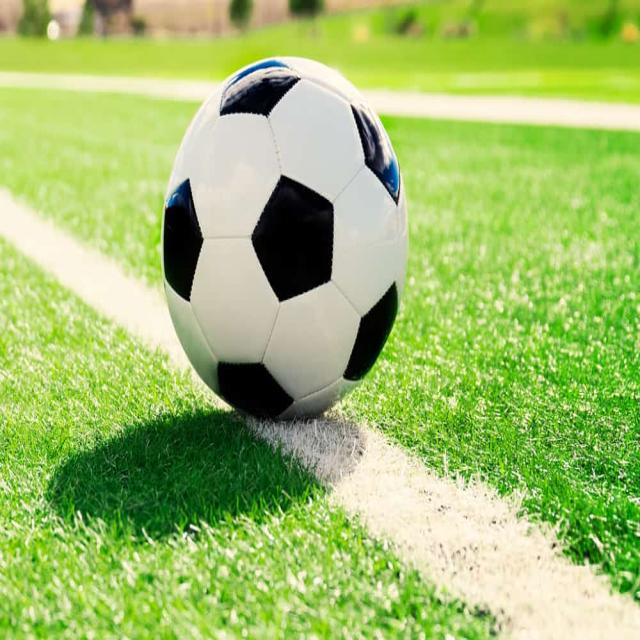soccer ball: (161, 57, 409, 416)
